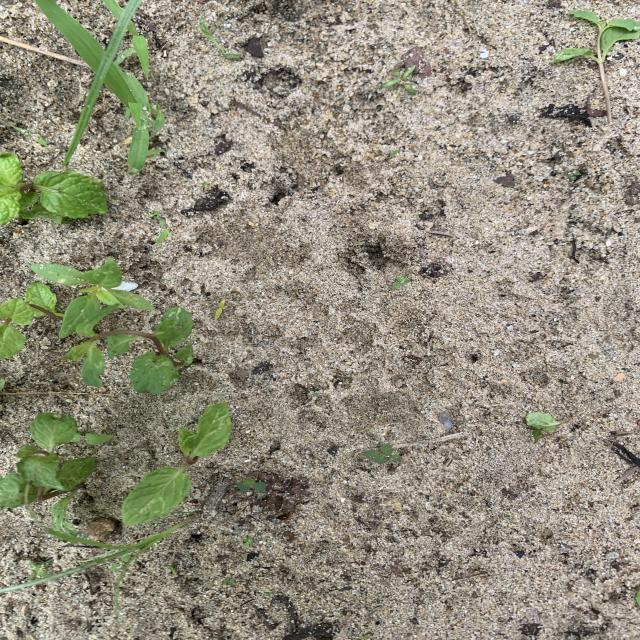crop: (0, 413, 108, 538), (122, 402, 231, 523), (69, 306, 193, 394), (551, 10, 640, 122), (1, 153, 106, 223), (0, 282, 62, 360), (525, 412, 567, 439)
weed: (40, 0, 145, 164), (31, 259, 154, 338), (200, 17, 240, 58), (128, 10, 149, 79), (383, 66, 415, 94), (365, 444, 401, 464), (15, 127, 48, 147), (237, 478, 266, 493), (102, 0, 123, 20), (28, 561, 49, 579), (154, 217, 168, 243), (393, 271, 409, 288), (214, 301, 225, 319), (565, 170, 580, 180), (243, 537, 254, 546), (223, 577, 235, 585), (168, 566, 175, 574)
